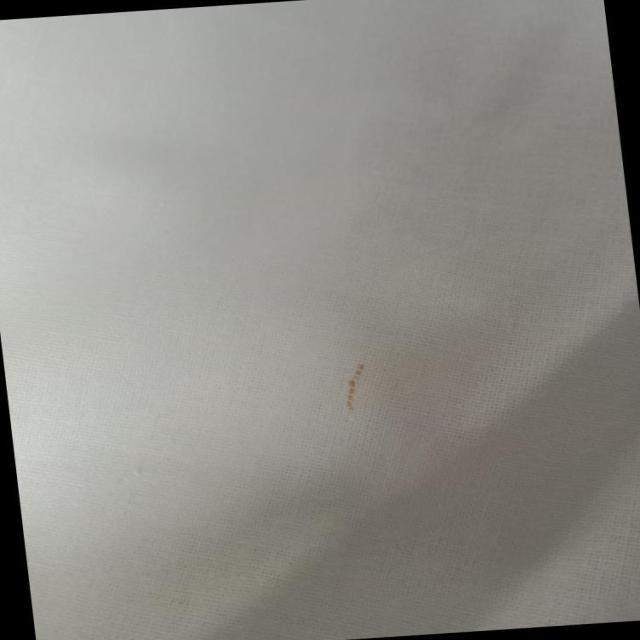contamination: (324, 348, 391, 419)
